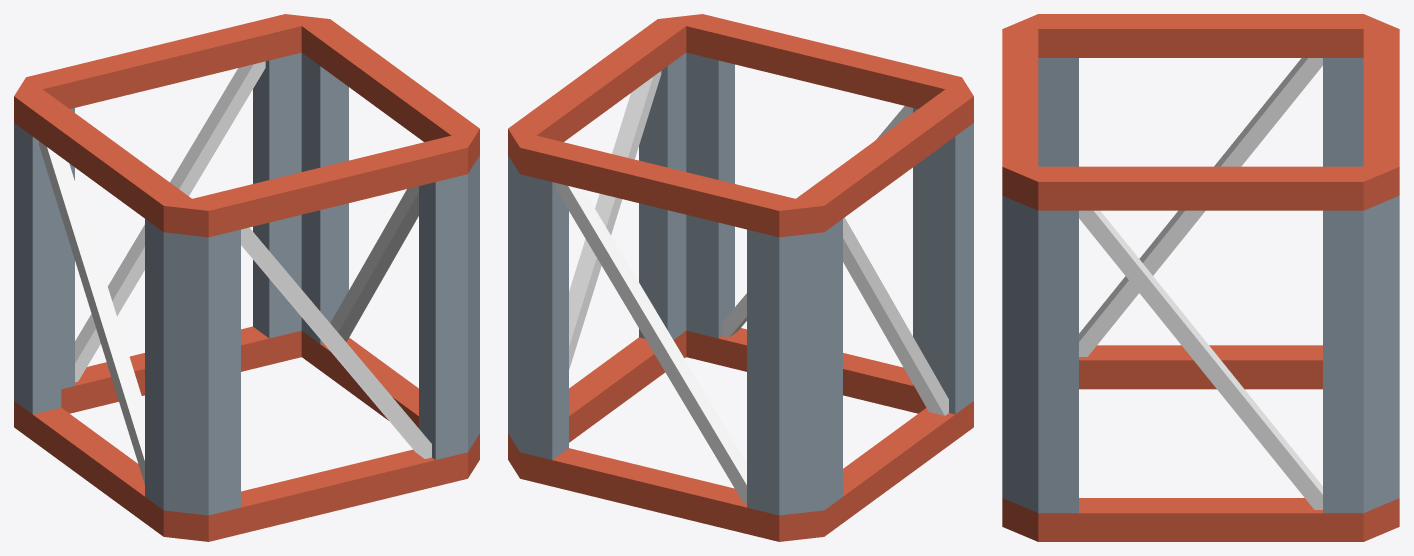
Rendered from metalStructureCross.fbx.
3 views of the same model, side by side, from view 1: azimuth 30°, elevation 25°; view 2: azimuth 150°, elevation 25°; view 3: azimuth 270°, elevation 25° (orthographic). The views are drawn at different scales.
Visible parts, largest first — view 1: metalStructureCross; view 2: metalStructureCross; view 3: metalStructureCross.
Boxes of the visible parts, box(x1,y1,x2,y2) form: metalStructureCross: box(14, 14, 479, 541); metalStructureCross: box(508, 14, 973, 541); metalStructureCross: box(1002, 14, 1399, 541).
Bounding box in the file's own units: 10 × 10 × 10.
